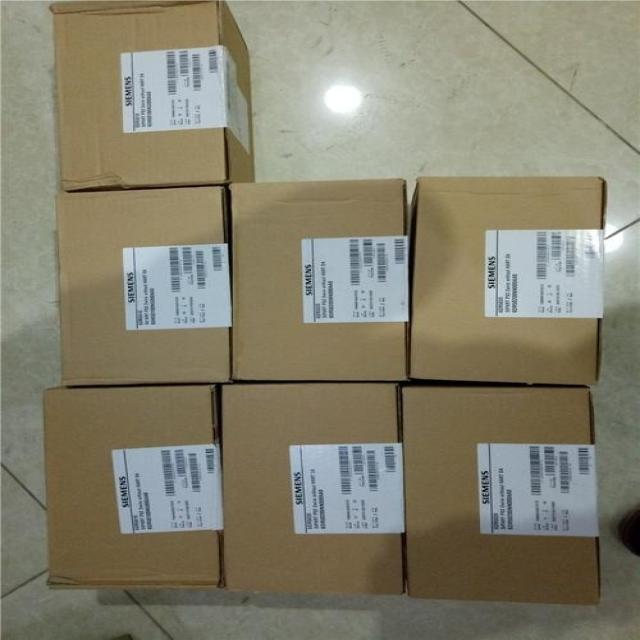box: (395, 386, 601, 605), (408, 179, 608, 388), (52, 2, 257, 192), (224, 383, 402, 596), (42, 384, 222, 590), (231, 180, 409, 382), (57, 189, 233, 385)
